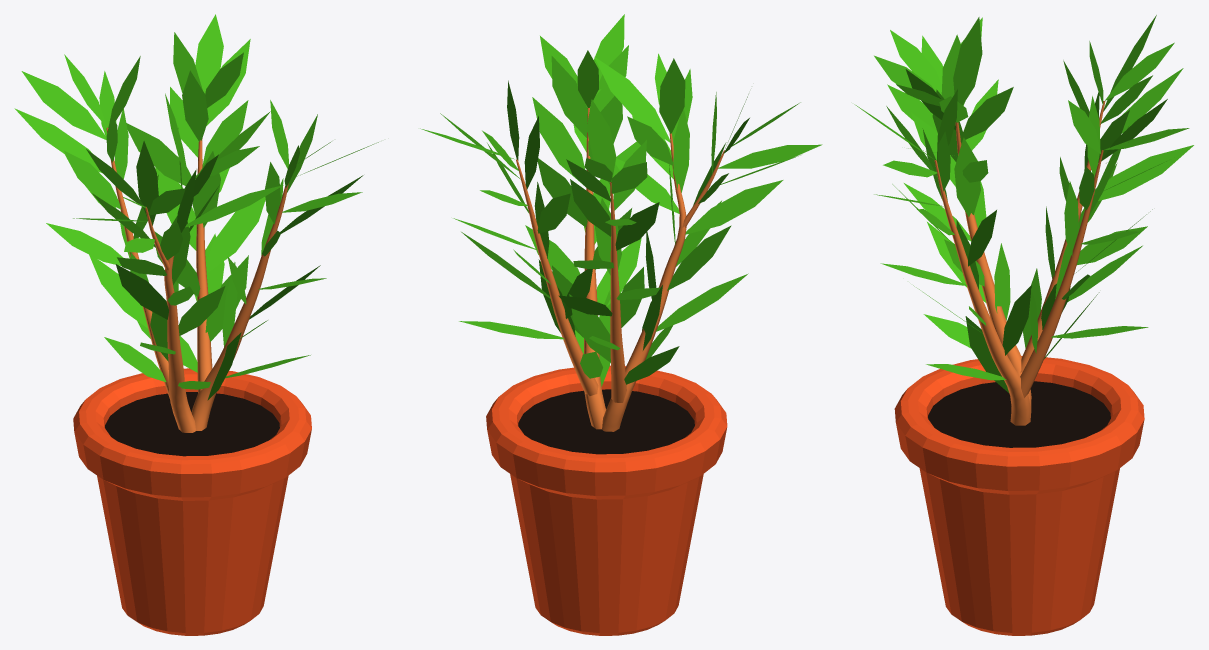
Rendered from pot.obj.
The picture shows the model from 3 angles, left to right: view 1: azimuth 30°, elevation 25°; view 2: azimuth 150°, elevation 25°; view 3: azimuth 270°, elevation 25°; orthographic projection. The views are drawn at different scales.
Visible parts, largest first — view 1: Plant.001_Cylinder.018; view 2: Plant.001_Cylinder.018; view 3: Plant.001_Cylinder.018.
Boxes of the visible parts, x1=… form: Plant.001_Cylinder.018: x1=14, y1=14, x2=378, y2=635; Plant.001_Cylinder.018: x1=420, y1=14, x2=822, y2=635; Plant.001_Cylinder.018: x1=854, y1=15, x2=1193, y2=635.
Size of the model in its own units: 1.17 by 2.03 by 1.11.
